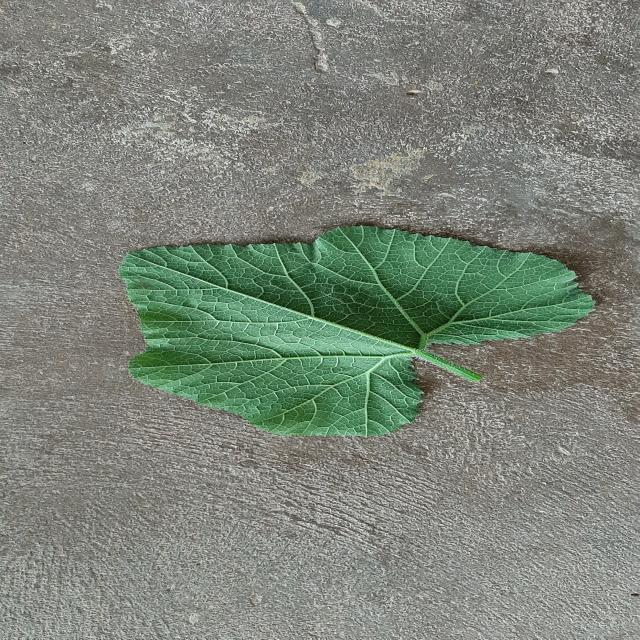pumpkin: (119, 226, 593, 436)
